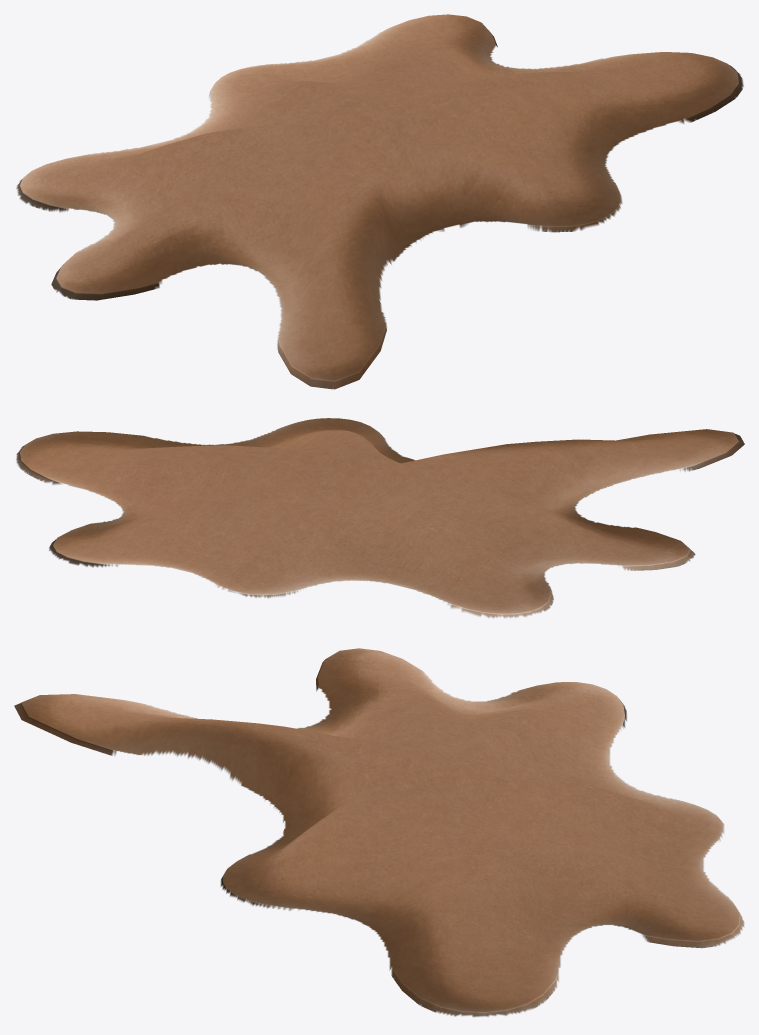
Rendered from dirt_11.glb.
3 renders of one model, top to bottom at view 1: azimuth 30°, elevation 25°; view 2: azimuth 150°, elevation 25°; view 3: azimuth 270°, elevation 25°, orthographic. The views are drawn at different scales.
Parts seen in each view (by area): view 1: dirt_11; view 2: dirt_11; view 3: dirt_11.
Boxes of the visible parts, x1=… form: dirt_11: x1=16, y1=14, x2=743, y2=389; dirt_11: x1=16, y1=418, x2=744, y2=618; dirt_11: x1=14, y1=648, x2=744, y2=1017.
Bounding box in the file's own units: 0.8642 × 0.0612 × 0.7216.
1 material, 1 textured.
